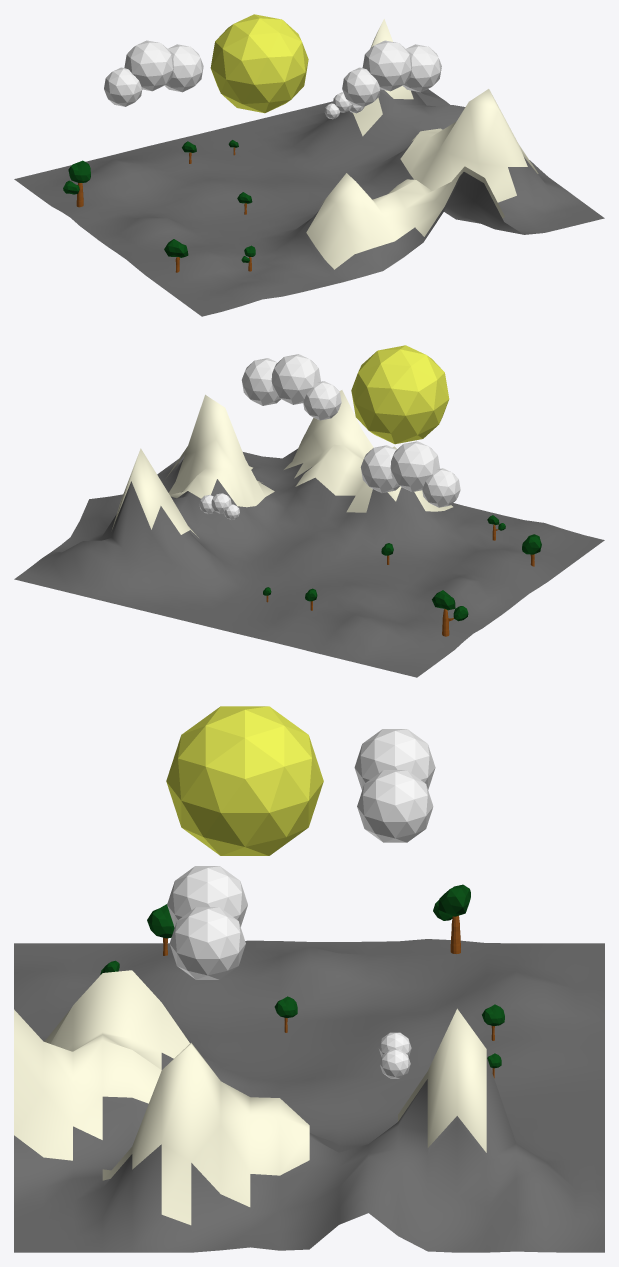
Rendered from moon_RE.FBX.
3 renders of one model, top to bottom at view 1: azimuth 30°, elevation 25°; view 2: azimuth 150°, elevation 25°; view 3: azimuth 270°, elevation 25°, orthographic. The views are drawn at different scales.
Visible parts, largest first — view 1: Plane002; view 2: Plane002; view 3: Plane002.
Part boxes in pixels (x1,y1,x2,y2): Plane002: (14,14,604,316); Plane002: (14,345,604,677); Plane002: (14,706,604,1252).
Bounding box in the file's own units: 134 × 67.43 × 108.
